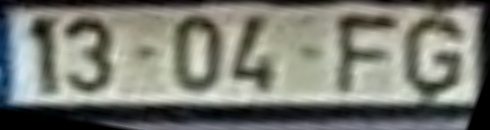0: (169, 13, 224, 96)
1: (23, 12, 62, 102)
3: (61, 12, 119, 100)
4: (227, 17, 280, 97)
F: (336, 11, 409, 98)
G: (403, 13, 468, 101)
